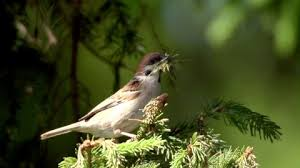hsparrow: (38, 50, 174, 147)
